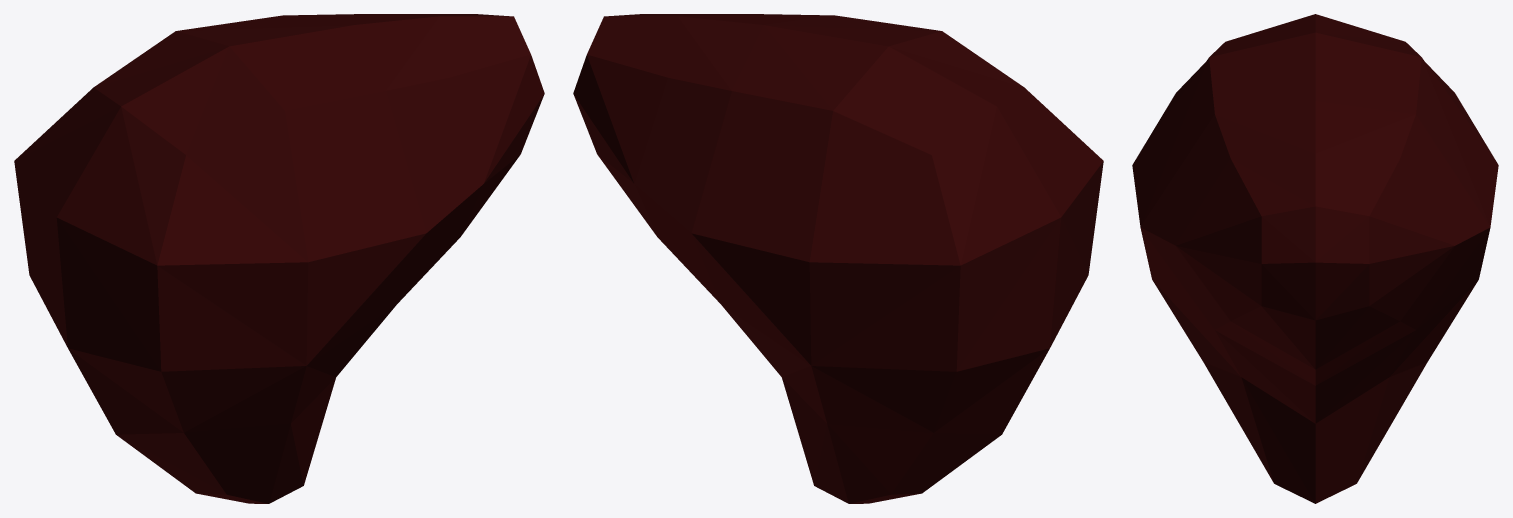
The model's file is liver (1).FBX.
3 renders of one model, left to right at view 1: azimuth 30°, elevation 25°; view 2: azimuth 150°, elevation 25°; view 3: azimuth 270°, elevation 25°, orthographic. The views are drawn at different scales.
Visible parts, largest first — view 1: liver; view 2: liver; view 3: liver.
Part boxes in pixels (bbox=[...]): liver: bbox=[14, 14, 544, 503]; liver: bbox=[573, 14, 1103, 503]; liver: bbox=[1132, 14, 1498, 503].
Bounding box in the file's own units: 119 × 110 × 81.4.
